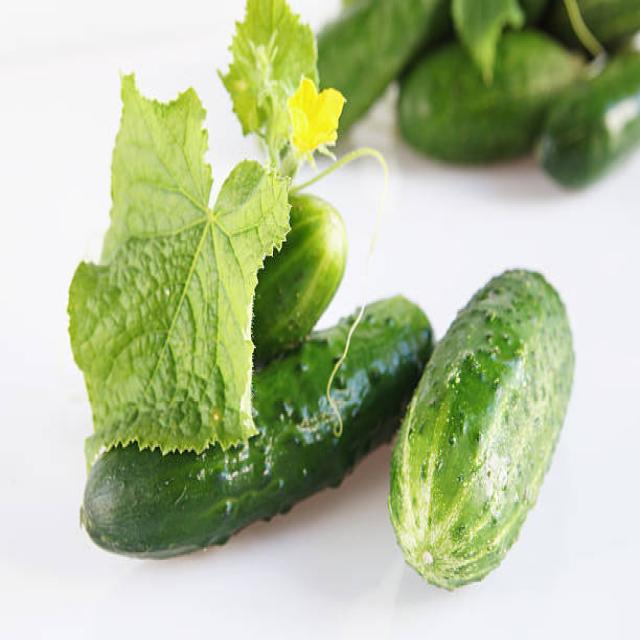cucumber: (81, 293, 433, 557), (389, 265, 575, 587)
